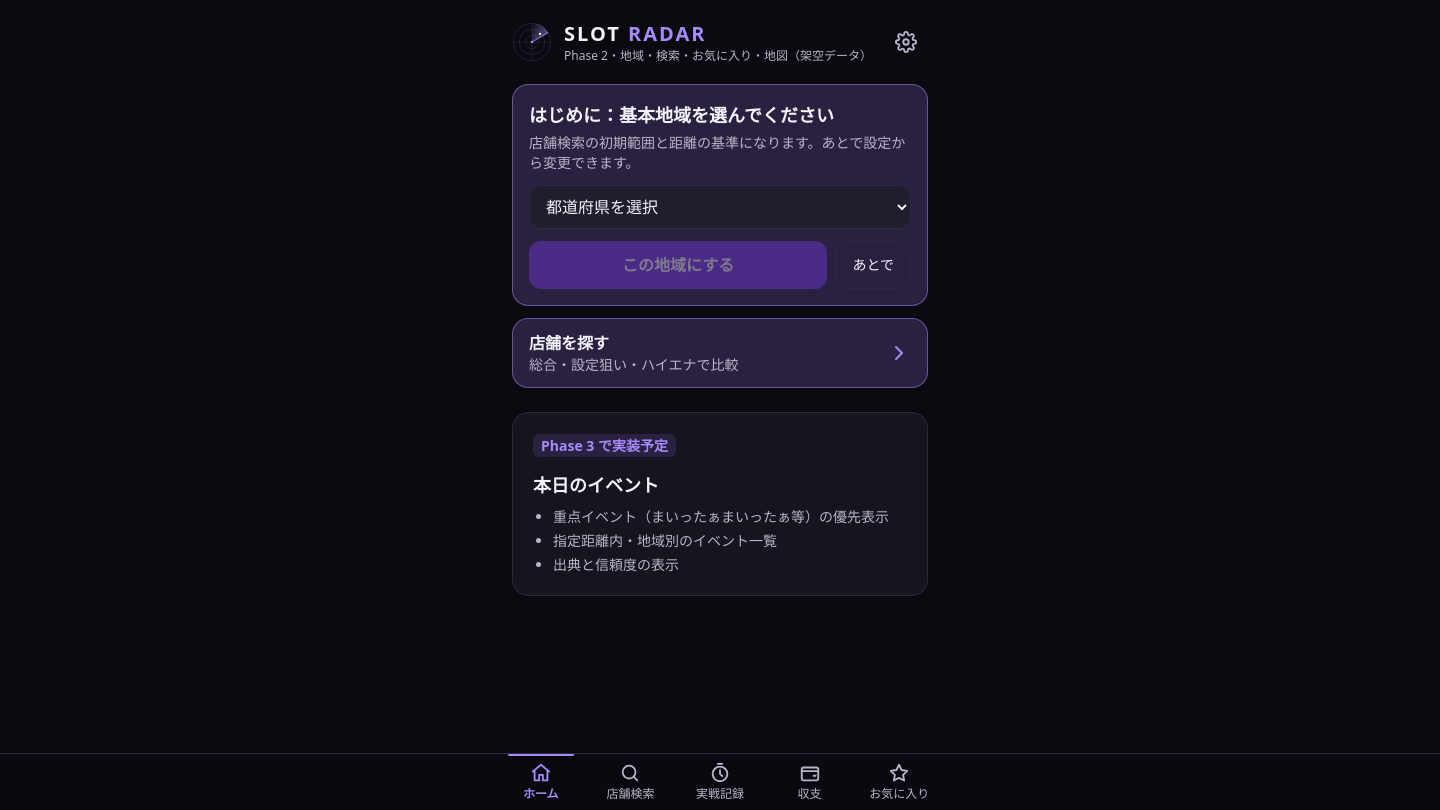
Test: 画面遷移 › 下部ナビの5タブすべてに移動できる
Click the link "店舗検索": (630, 782) left=606, top=762, right=654, bottom=802
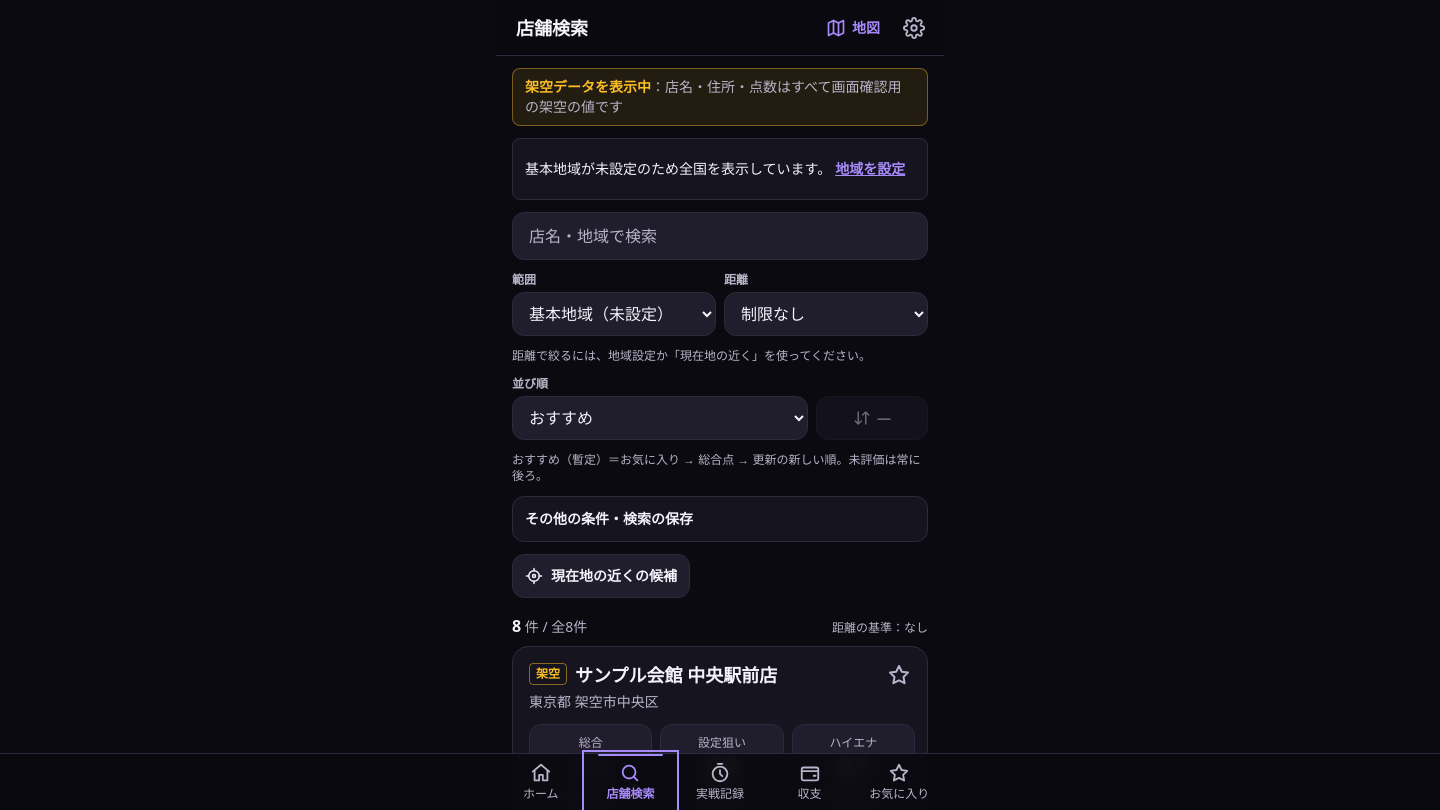
Expected: the heading "店舗検索" is shown, left=516, top=16, right=588, bottom=40
Expected: the link "店舗検索" is marked as current, left=598, top=754, right=663, bottom=802
Click the link "実戦記録": (720, 782) left=696, top=762, right=744, bottom=802
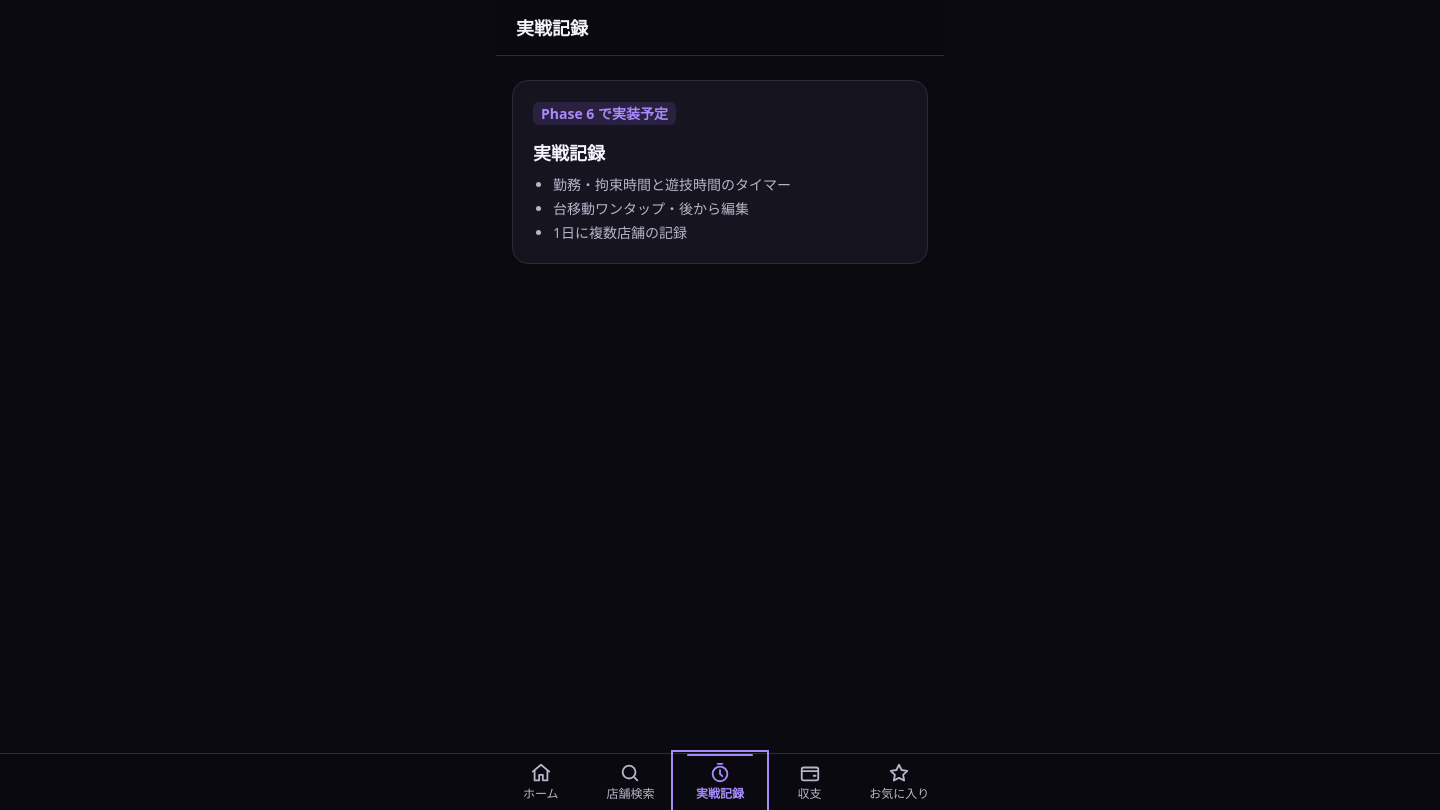
Expected: the 1st heading "実戦記録" is shown, left=516, top=16, right=588, bottom=40
Click the link "収支": (810, 782) left=798, top=762, right=822, bottom=802
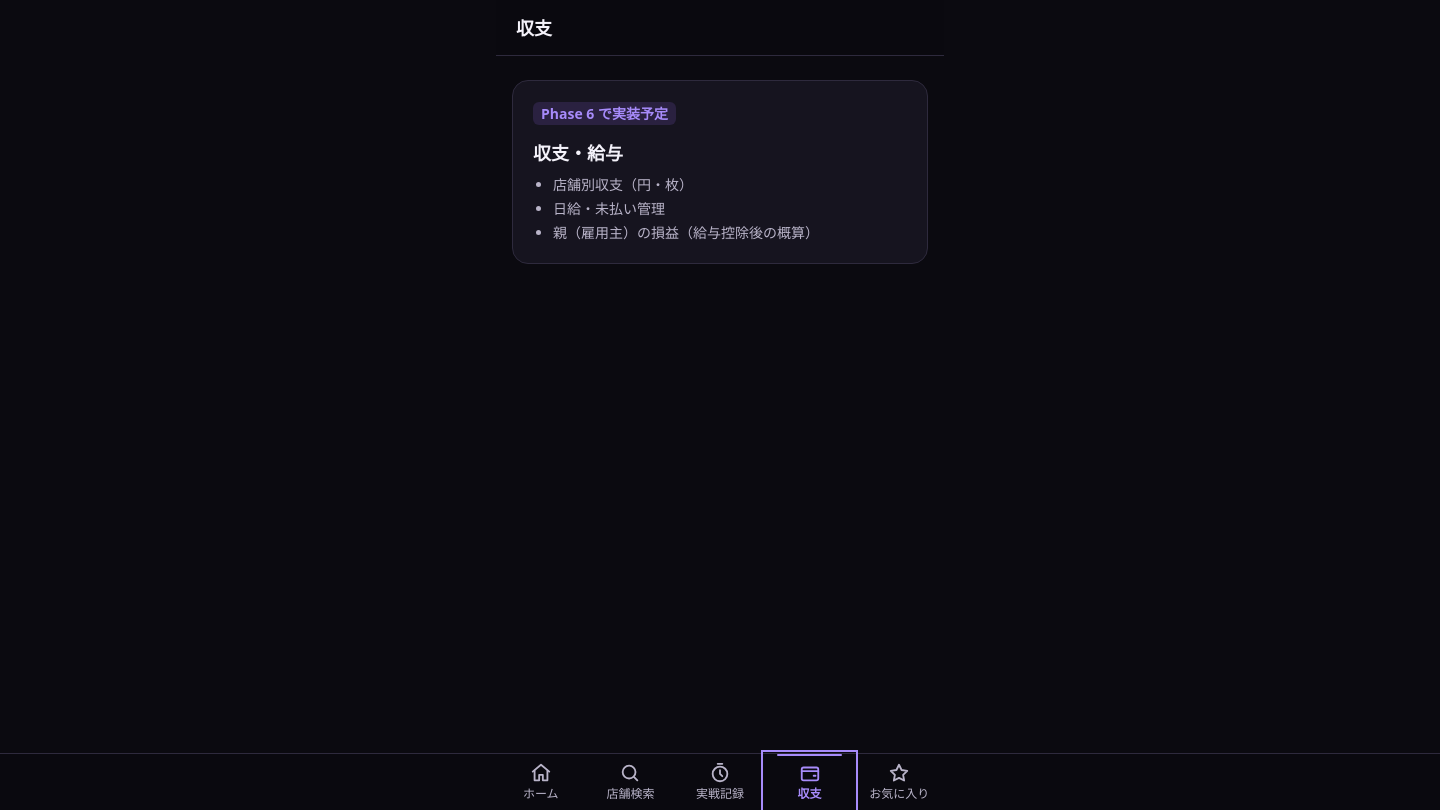
Expected: the heading "収支" is shown, left=516, top=16, right=552, bottom=40
Click the link "お気に入り": (899, 782) left=869, top=762, right=929, bottom=802
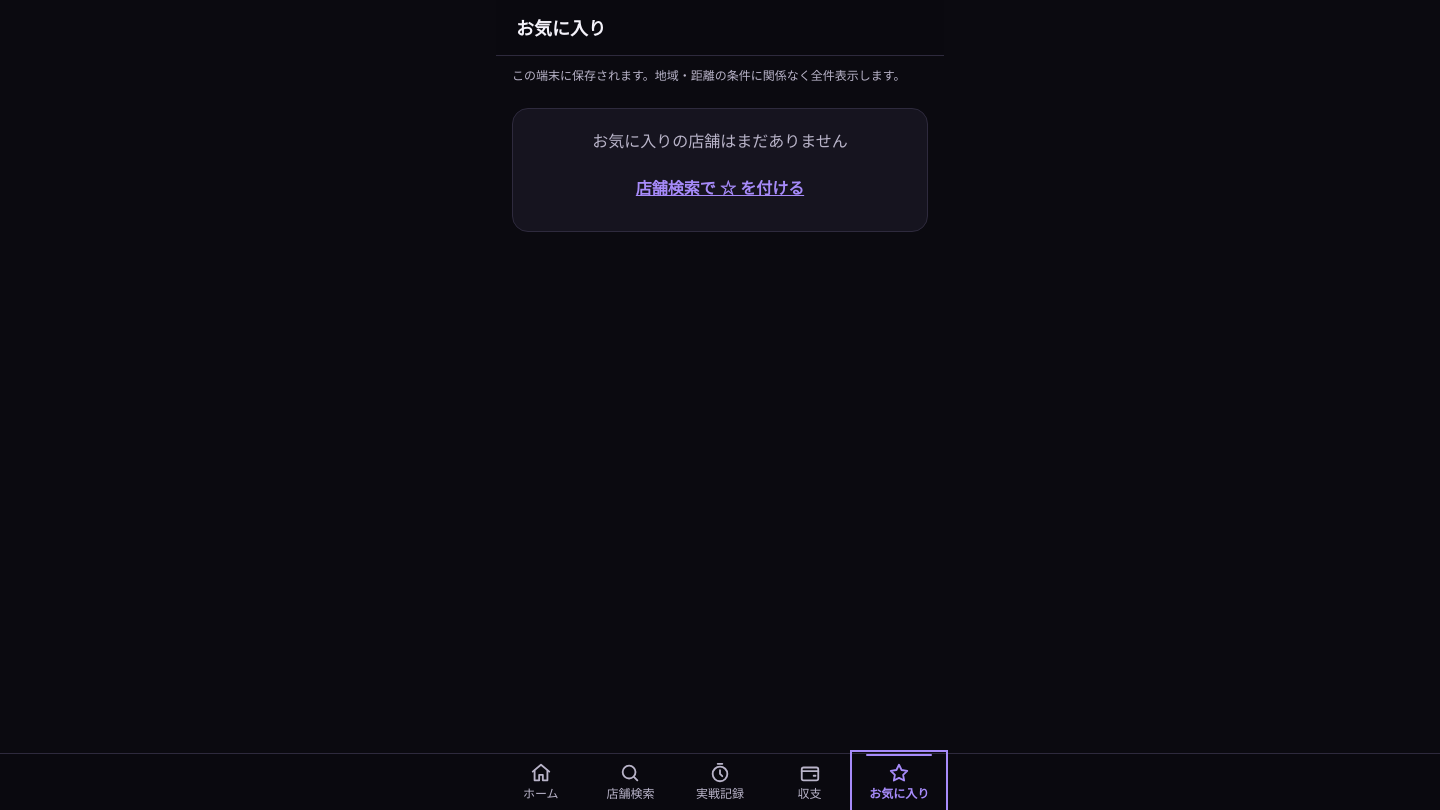
Expected: the heading "お気に入り" is shown, left=516, top=16, right=606, bottom=40
Click the link "ホーム": (541, 782) left=523, top=762, right=559, bottom=802
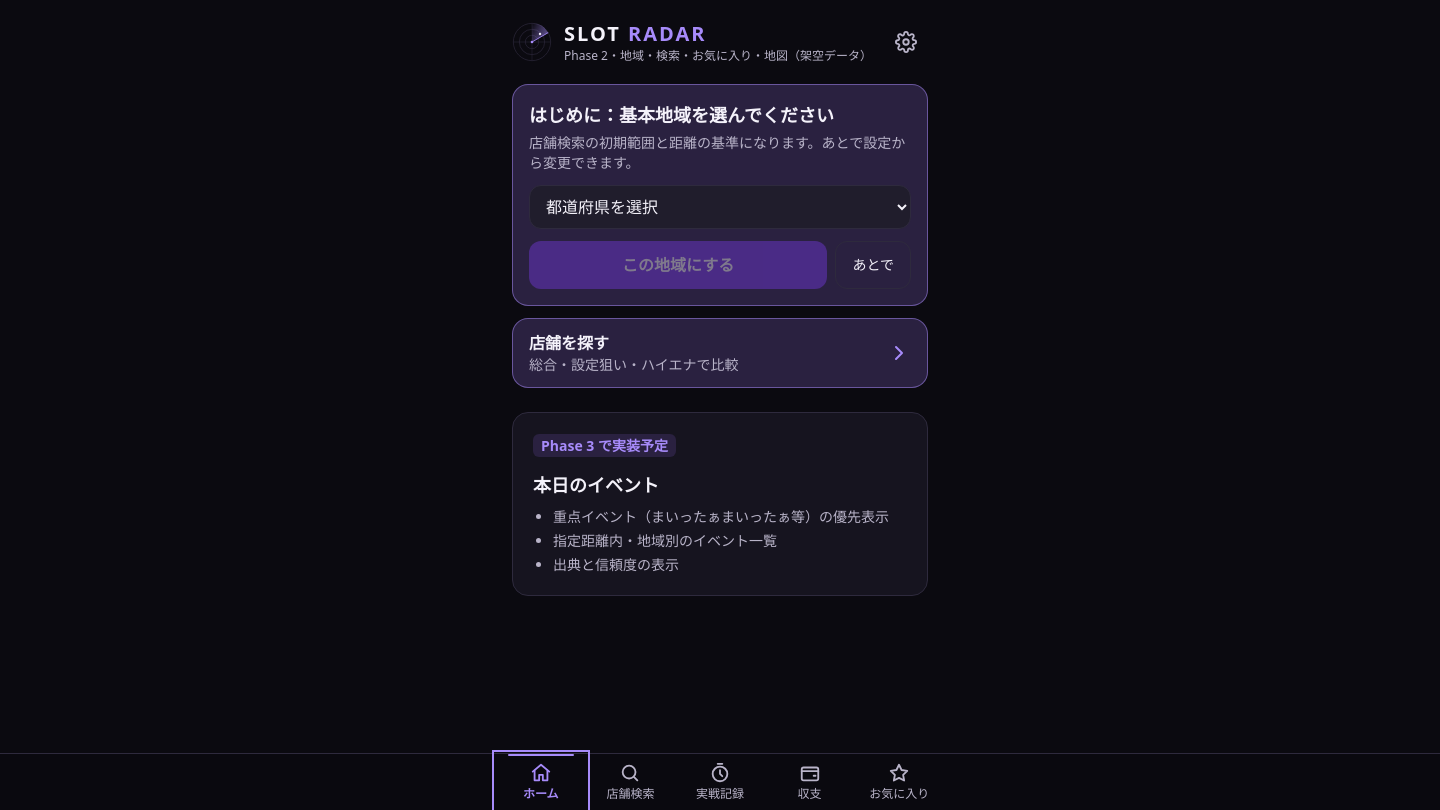
Expected: the heading "SLOT RADAR" is shown, left=564, top=20, right=706, bottom=47
